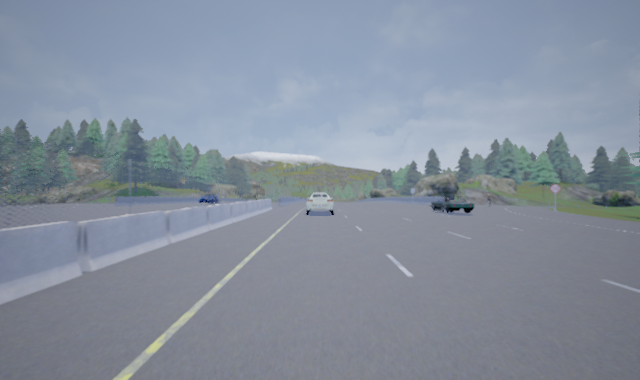vehicle: (430, 191, 474, 214), (305, 192, 334, 215), (198, 193, 217, 204)
